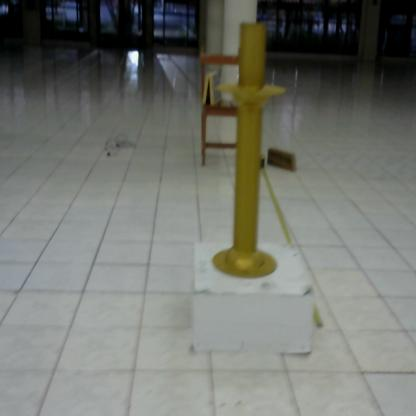pole: (208, 21, 292, 285)
